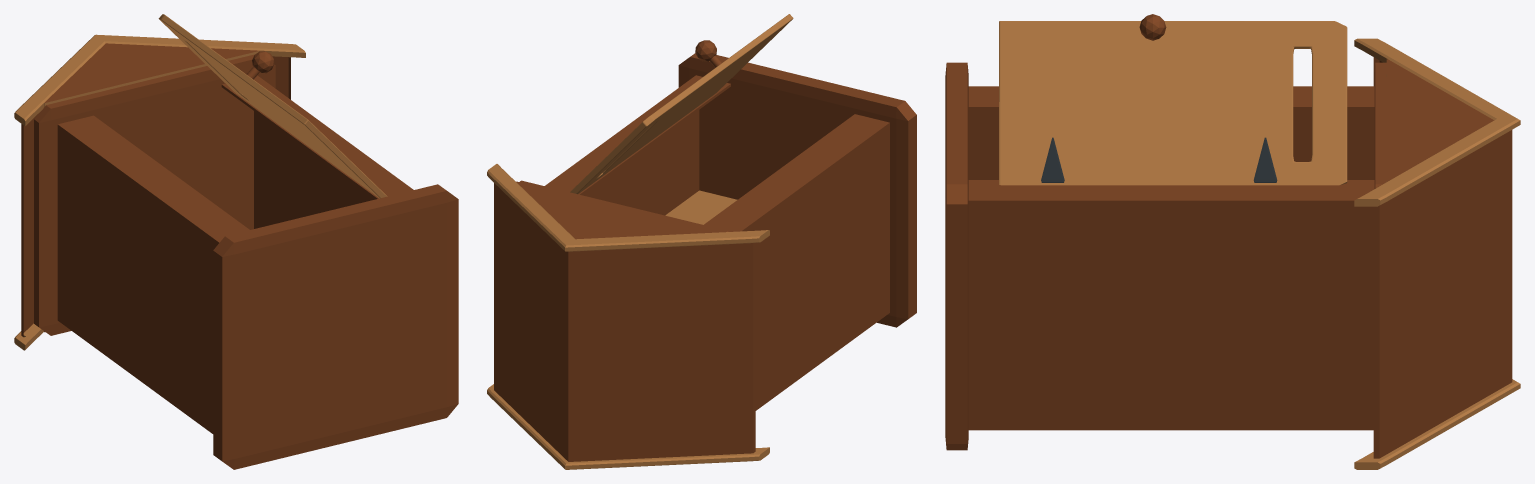
Rendered from Outdoor Bathroom (Outdoor Toilet).fbx.
The picture shows the model from 3 angles, left to right: view 1: azimuth 30°, elevation 25°; view 2: azimuth 150°, elevation 25°; view 3: azimuth 270°, elevation 25°; orthographic projection. The views are drawn at different scales.
Visible parts, largest first — view 1: Cylinder.002; view 2: Cylinder.002; view 3: Cylinder.002.
Boxes of the visible parts, bbox=[...] form: Cylinder.002: bbox=[14, 14, 458, 469]; Cylinder.002: bbox=[487, 14, 916, 469]; Cylinder.002: bbox=[945, 14, 1520, 469].
Bounding box in the file's own units: 211 × 234 × 320.
